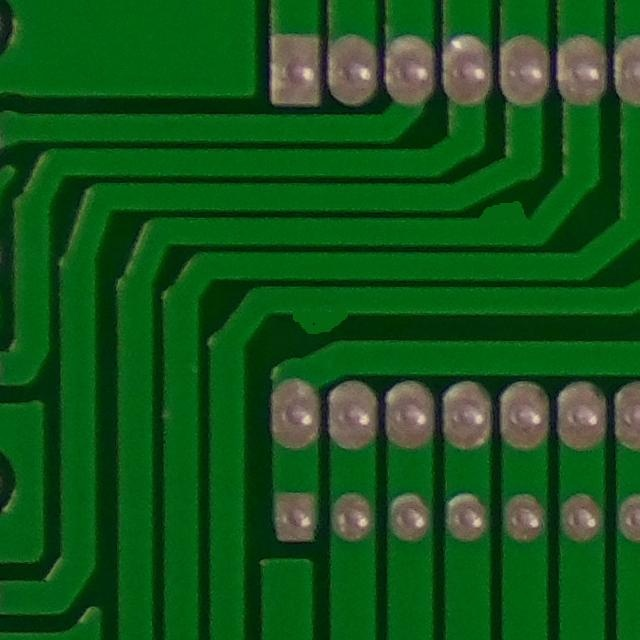spur: (270, 296, 370, 345)
